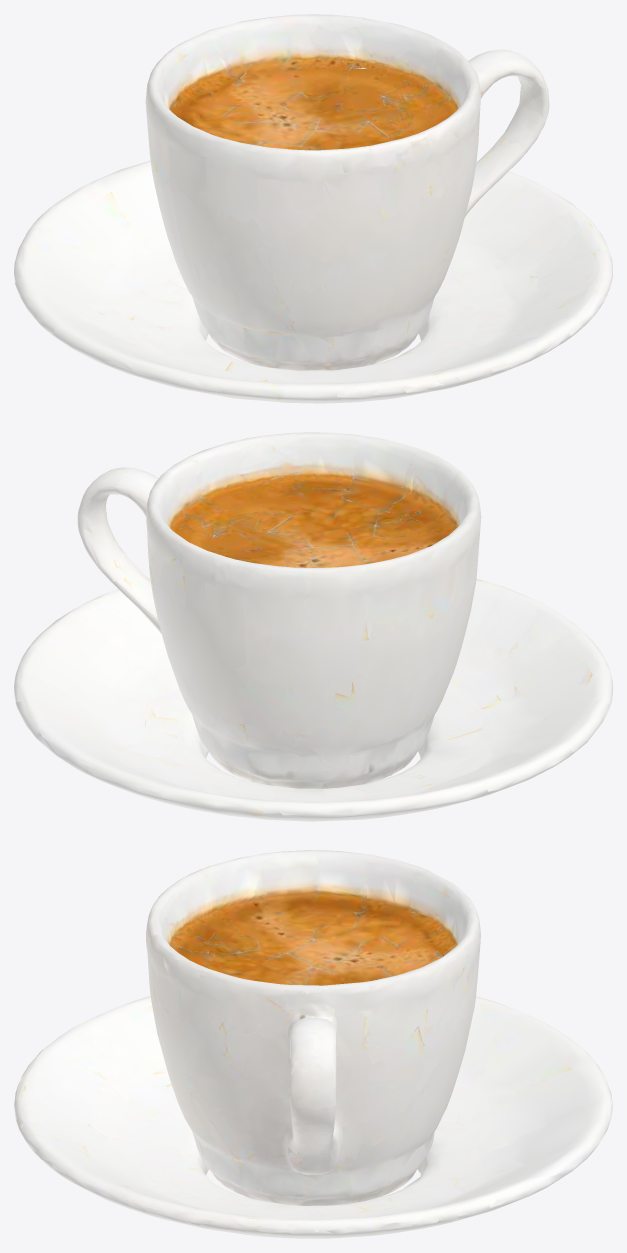
The model's file is cup-lite.glb.
The picture shows the model from 3 angles, top to bottom: view 1: azimuth 30°, elevation 25°; view 2: azimuth 150°, elevation 25°; view 3: azimuth 270°, elevation 25°; orthographic projection.
Visible parts, largest first — view 1: Mesh_0; view 2: Mesh_0; view 3: Mesh_0.
Boxes of the visible parts, x1=… form: Mesh_0: x1=14, y1=14, x2=612, y2=403; Mesh_0: x1=14, y1=432, x2=612, y2=821; Mesh_0: x1=14, y1=850, x2=612, y2=1238.
Bounding box in the file's own units: 1.9 × 0.915 × 1.9.
Materials: 1 (1 with a texture image).
